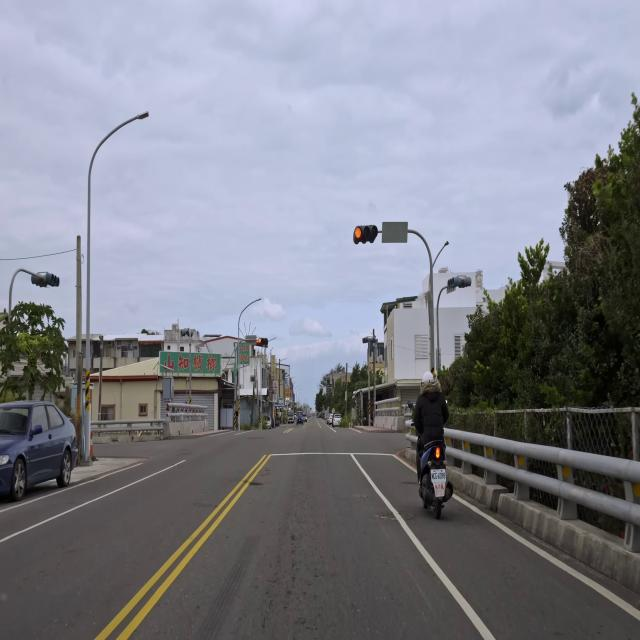red light: (353, 226, 378, 242), (258, 337, 268, 345)
